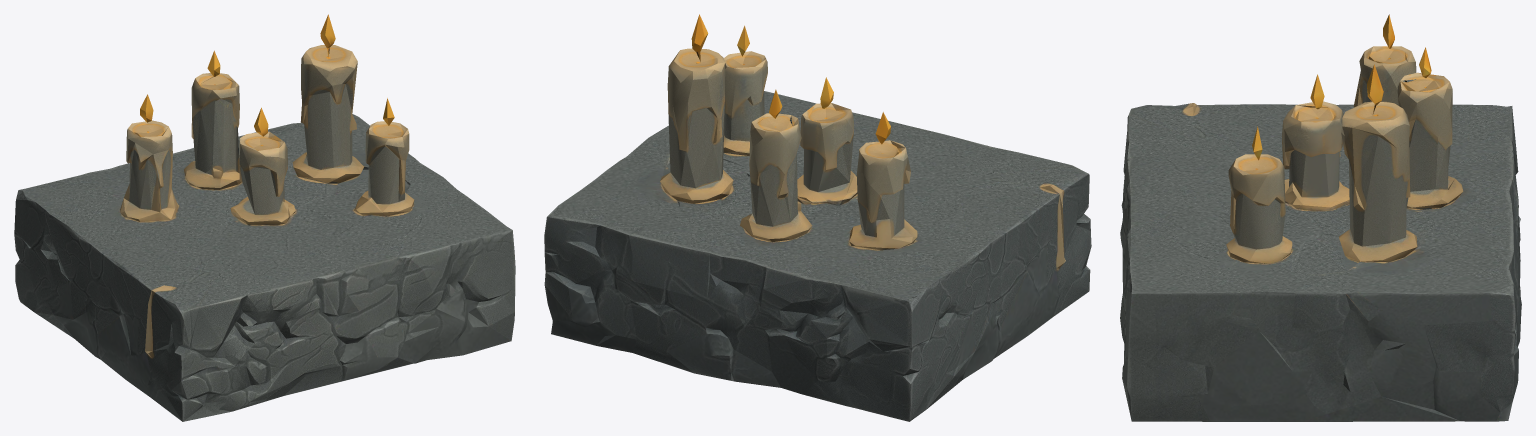
File: candles-stone.hq.glb
3 views of the same model, side by side, from view 1: azimuth 30°, elevation 25°; view 2: azimuth 150°, elevation 25°; view 3: azimuth 270°, elevation 25° (orthographic). The views are drawn at different scales.
Parts seen in each view (by area): view 1: output_unwrapped; view 2: output_unwrapped; view 3: output_unwrapped.
Boxes of the visible parts, left/top/right/bottom form: output_unwrapped: left=14, top=14, right=515, bottom=421; output_unwrapped: left=544, top=14, right=1091, bottom=421; output_unwrapped: left=1120, top=14, right=1521, bottom=421.
Bounding box in the file's own units: 1.9 × 1.43 × 1.67.
1 material, 1 textured.
